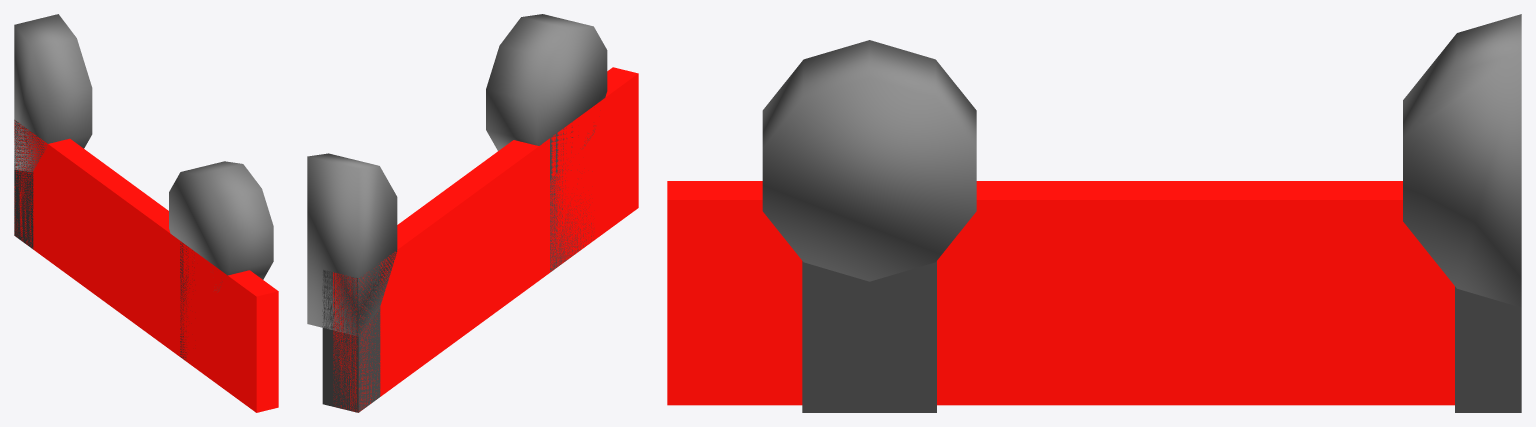
File: newsha-269-f4.glb
The picture shows the model from 3 angles, left to right: view 1: azimuth 30°, elevation 25°; view 2: azimuth 150°, elevation 25°; view 3: azimuth 270°, elevation 25°; orthographic projection. The views are drawn at different scales.
Visible parts, largest first — view 1: newsha-269-f4; view 2: newsha-269-f4; view 3: newsha-269-f4.
Part boxes in pixels (x1=…): newsha-269-f4: x1=14, y1=14, x2=278, y2=412; newsha-269-f4: x1=307, y1=14, x2=638, y2=412; newsha-269-f4: x1=667, y1=14, x2=1521, y2=412.
Bounding box in the file's own units: 0.1667 × 0.7615 × 1.58.
